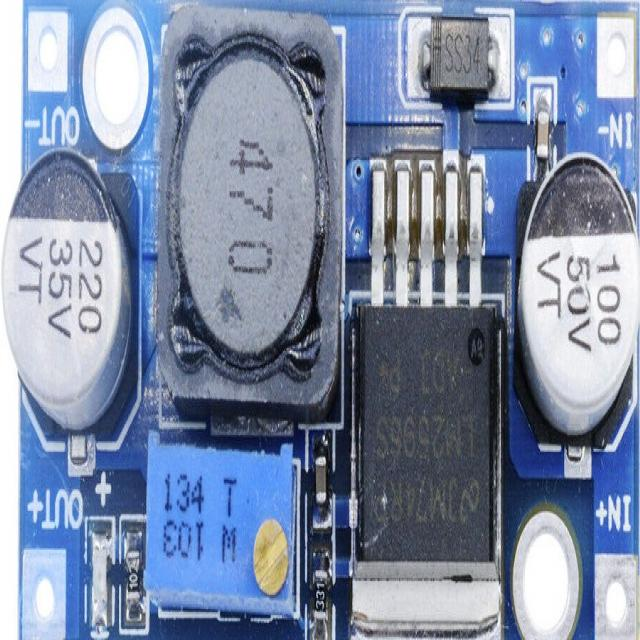IC: (355, 204, 495, 613)
LED: (86, 530, 112, 620)
capacitor 1V5: (0, 157, 130, 436), (516, 157, 637, 450), (314, 455, 327, 521), (538, 105, 551, 157)
diode -D1-: (420, 12, 507, 98)
inductor F1: (159, 16, 341, 412)
potentiometer POT1: (147, 430, 302, 598)
resistor IR1: (126, 532, 142, 622), (314, 564, 328, 626)
